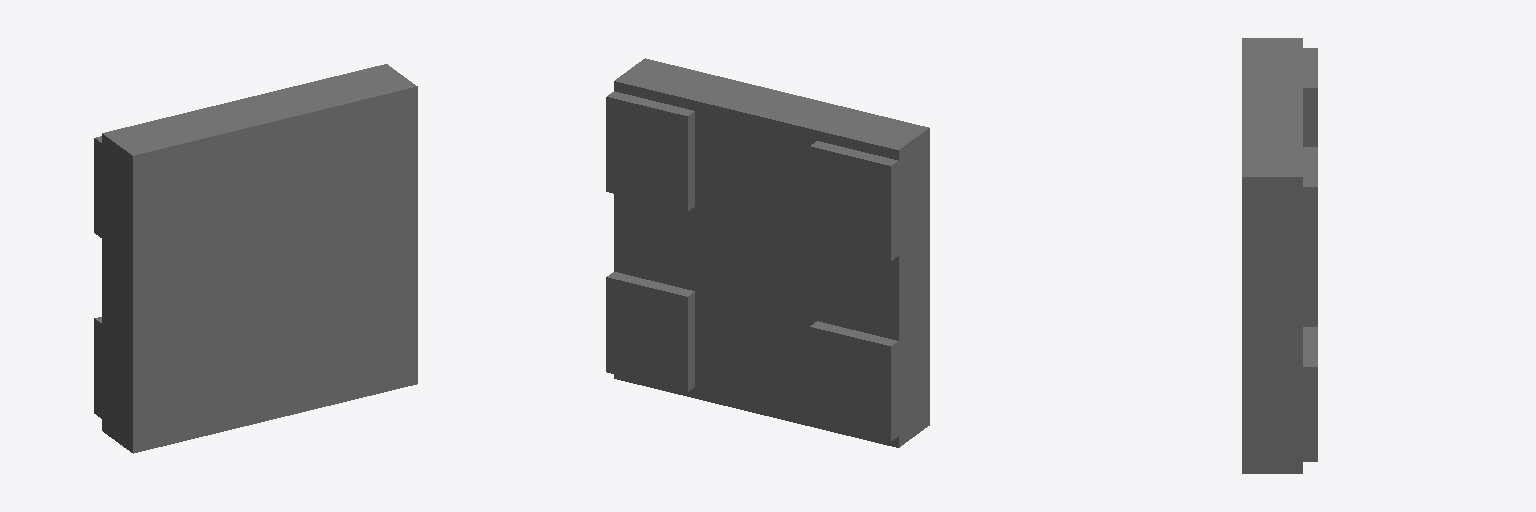
File: Ytisch.obj
3 views of the same model, side by side, from view 1: azimuth 30°, elevation 25°; view 2: azimuth 150°, elevation 25°; view 3: azimuth 270°, elevation 25° (orthographic).
Visible parts, largest first — view 1: ytisch_Mesh.007_tisch-z.001; view 2: ytisch_Mesh.007_tisch-z.001; view 3: ytisch_Mesh.007_tisch-z.001.
Part boxes in pixels (x1,y1,x2,y2): ytisch_Mesh.007_tisch-z.001: (94, 64, 417, 453); ytisch_Mesh.007_tisch-z.001: (606, 58, 929, 447); ytisch_Mesh.007_tisch-z.001: (1242, 38, 1317, 473).
Size of the model in its own units: 175 by 175 by 41.